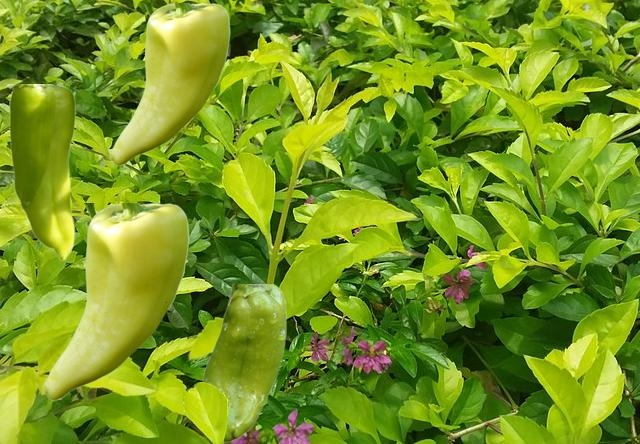green_chili: (42, 203, 188, 400), (109, 3, 229, 165), (202, 284, 285, 441), (6, 84, 74, 259)
